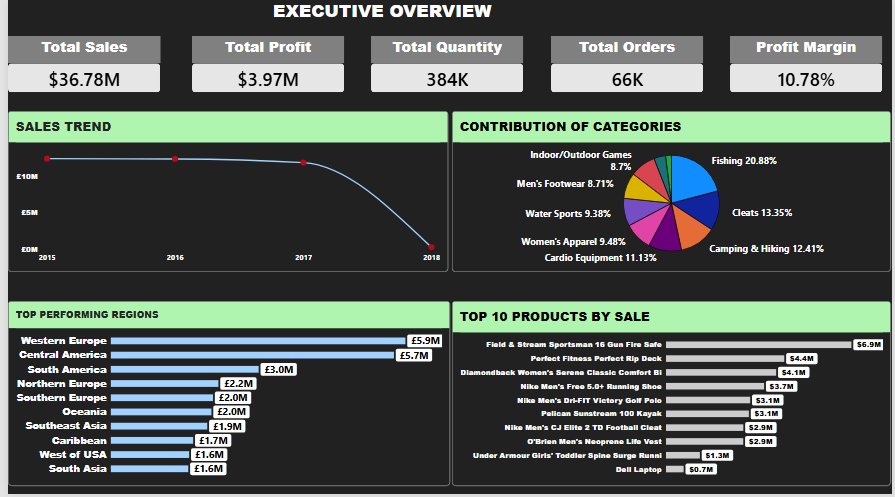

This screenshot's page, from the dashboard's own definition file:
{"tool":"powerbi","page":{"name":"EXECUTIVE OVERVIEW","canvas":[1920,1080],"ordinal":5},"visuals":[{"type":"textbox","box":[576.1,0,495.7,69.6],"z":0},{"type":"cardVisual","title":"Total Orders","fields":{"Data":["Table1.Total Orders"]},"box":[1180.4,81.6,331,123],"z":1000},{"type":"cardVisual","title":"Profit Margin","fields":{"Data":["Table1.Profit Margin"]},"box":[1569.6,82.6,331,123],"z":2000},{"type":"cardVisual","title":"Total Sales","fields":{"Data":["Table1.Total Sales"]},"box":[-0.4,81.6,331.7,123.3],"z":3000},{"type":"cardVisual","title":"Total Profit","fields":{"Data":["Table1.Total Profit"]},"box":[400,81.6,331,123],"z":4000},{"type":"cardVisual","title":"Total Quantity","fields":{"Data":["Table1.Quantity"]},"box":[790.2,81.6,331,123],"z":5000},{"type":"barChart","title":"TOP PERFORMING REGIONS","fields":{"Category":["Table1.Order Region"],"Y":["Table1.Total Sales"]},"box":[0,658.7,960.9,402.2],"z":5001},{"type":"lineChart","title":"SALES TREND","fields":{"Category":["Table1.Order Date.Variation.Date Hierarchy.Year"],"Y":["Table1.Total Sales"]},"box":[0,245.7,956.5,350],"z":5003},{"type":"clusteredBarChart","title":"TOP 10 PRODUCTS BY SALE","fields":{"Category":["Table1.Product Name"],"Y":["Table1.Total Sales"]},"box":[965.2,658.7,954.3,402.2],"z":5004},{"type":"pieChart","title":"CONTRIBUTION OF CATEGORIES","fields":{"Category":["Table1.Category Name"],"Y":["Table1.Total Sales"]},"box":[965.2,245.7,954.3,350],"z":5005}]}

Visuals, with their boxes in screenshot pixels (x1, y1, x2, y2), scaled from the page's 1920x1080 canvas onto the 895x497 screenshot:
textbox: pyautogui.locateOnScreen(269, 0, 500, 32)
"Total Orders" cardVisual: pyautogui.locateOnScreen(550, 38, 705, 94)
"Profit Margin" cardVisual: pyautogui.locateOnScreen(732, 38, 886, 95)
"Total Sales" cardVisual: pyautogui.locateOnScreen(0, 38, 154, 94)
"Total Profit" cardVisual: pyautogui.locateOnScreen(186, 38, 341, 94)
"Total Quantity" cardVisual: pyautogui.locateOnScreen(368, 38, 523, 94)
"TOP PERFORMING REGIONS" barChart: pyautogui.locateOnScreen(0, 303, 448, 488)
"SALES TREND" lineChart: pyautogui.locateOnScreen(0, 113, 446, 274)
"TOP 10 PRODUCTS BY SALE" clusteredBarChart: pyautogui.locateOnScreen(450, 303, 894, 488)
"CONTRIBUTION OF CATEGORIES" pieChart: pyautogui.locateOnScreen(450, 113, 894, 274)
